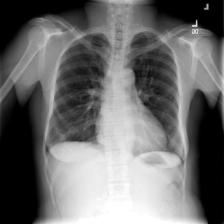normal: (41, 28, 192, 167)
